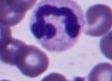N: (30, 1, 84, 54)
